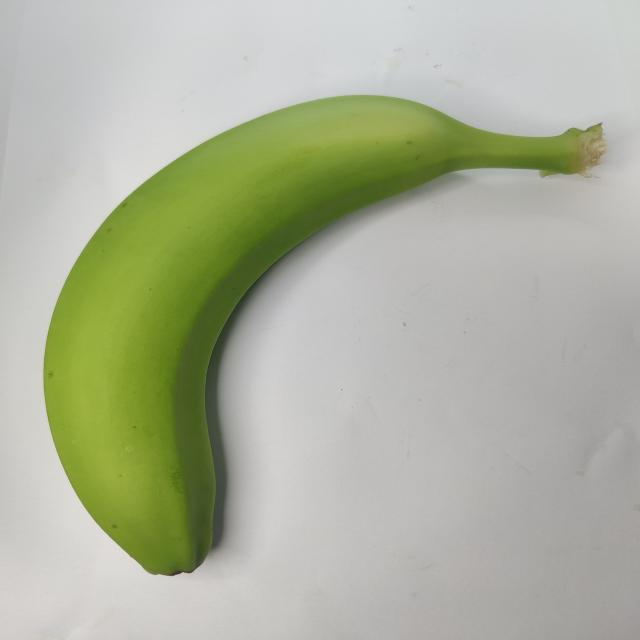raw: (15, 61, 620, 588)
